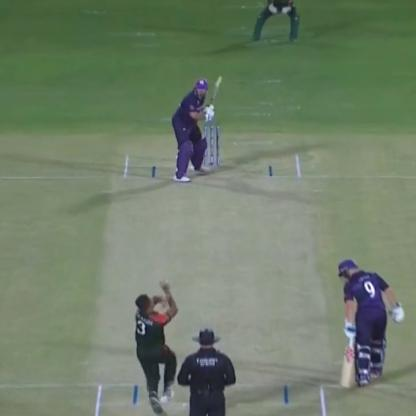ball: (153, 274, 175, 294)
bat: (330, 322, 363, 388), (202, 70, 228, 120)
pitch: (86, 134, 336, 416)
